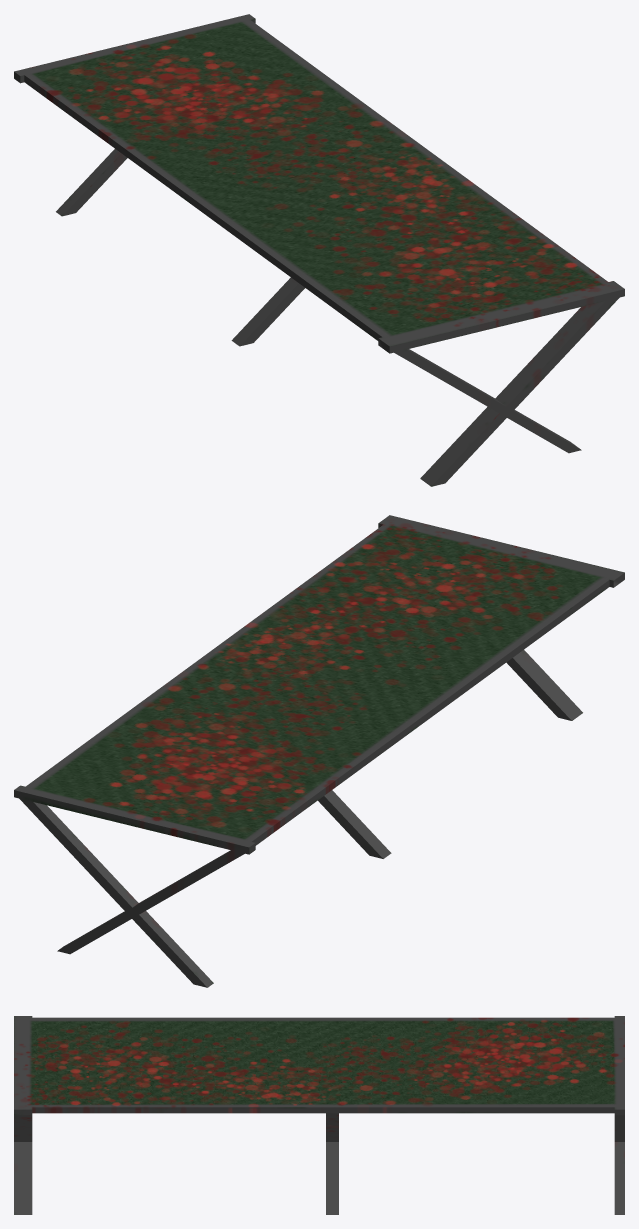
Rendered from lit de camps.fbx.
3 views of the same model, one above another, from view 1: azimuth 30°, elevation 25°; view 2: azimuth 150°, elevation 25°; view 3: azimuth 270°, elevation 25° (orthographic). The views are drawn at different scales.
Parts seen in each view (by area): view 1: lit de camp; view 2: lit de camp; view 3: lit de camp.
Boxes of the visible parts, x1,y1,x2,y2 form: lit de camp: (14, 14, 624, 486); lit de camp: (14, 515, 624, 987); lit de camp: (14, 1016, 624, 1214).
Size of the model in its own units: 68.71 by 42 by 190.
